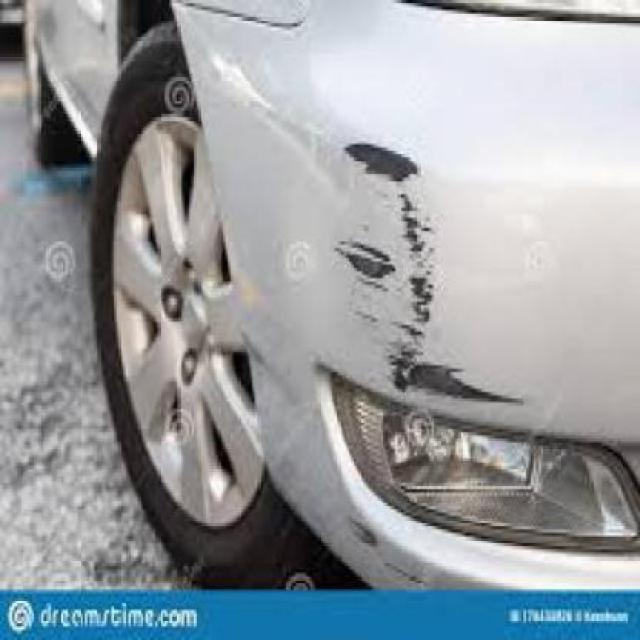front-bumper-dent: (156, 3, 639, 593)
